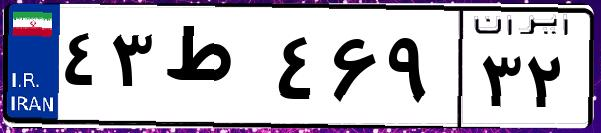2: (525, 38, 570, 115)
3: (475, 38, 525, 113), (110, 28, 158, 98)
4: (270, 28, 330, 110), (57, 26, 110, 100)
6: (330, 28, 385, 110)
9: (385, 28, 445, 110)
ط: (158, 20, 270, 120)
